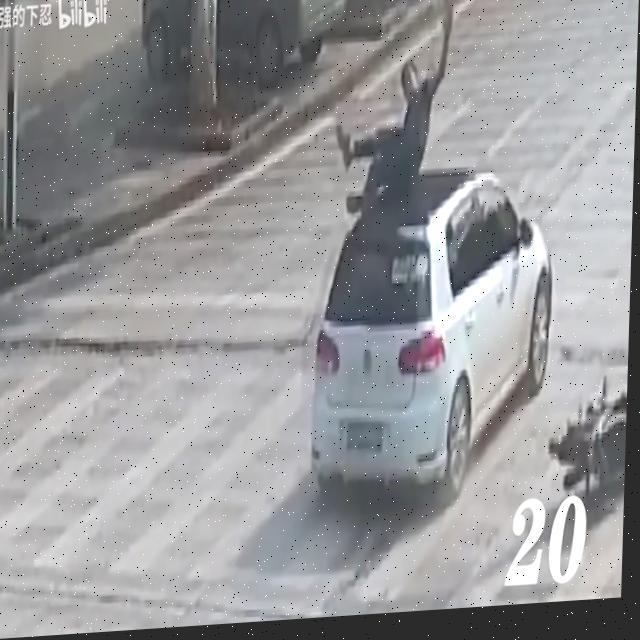multiple_accident: (253, 33, 546, 519), (539, 368, 640, 517)
